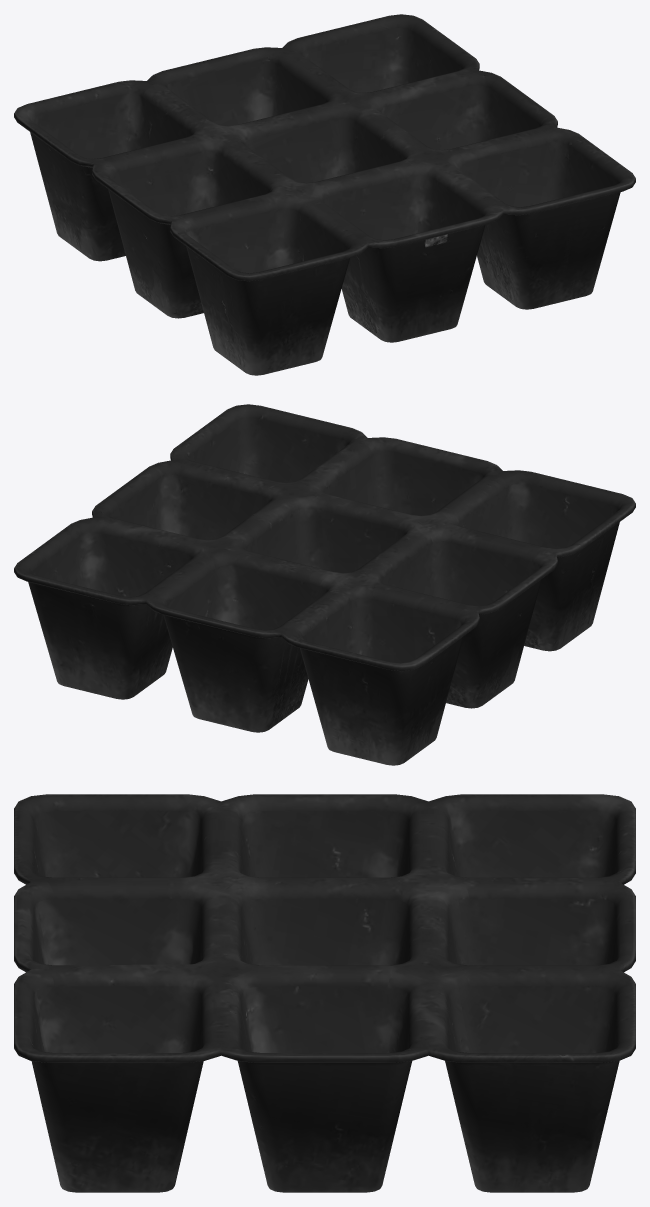
Rendered from ph-seeding_tray_01.glb.
The picture shows the model from 3 angles, top to bottom: view 1: azimuth 30°, elevation 25°; view 2: azimuth 150°, elevation 25°; view 3: azimuth 270°, elevation 25°; orthographic projection. The views are drawn at different scales.
Visible parts, largest first — view 1: seeding_tray_01; view 2: seeding_tray_01; view 3: seeding_tray_01.
Part boxes in pixels (x1,y1,x2,y2): seeding_tray_01: [14, 14, 635, 375]; seeding_tray_01: [14, 404, 635, 765]; seeding_tray_01: [14, 794, 635, 1192].
Size of the model in its own units: 0.2202 by 0.0608 by 0.2202.
Materials: 1 (1 with a texture image).
